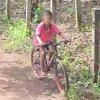bicycles: (31, 37, 71, 96)
